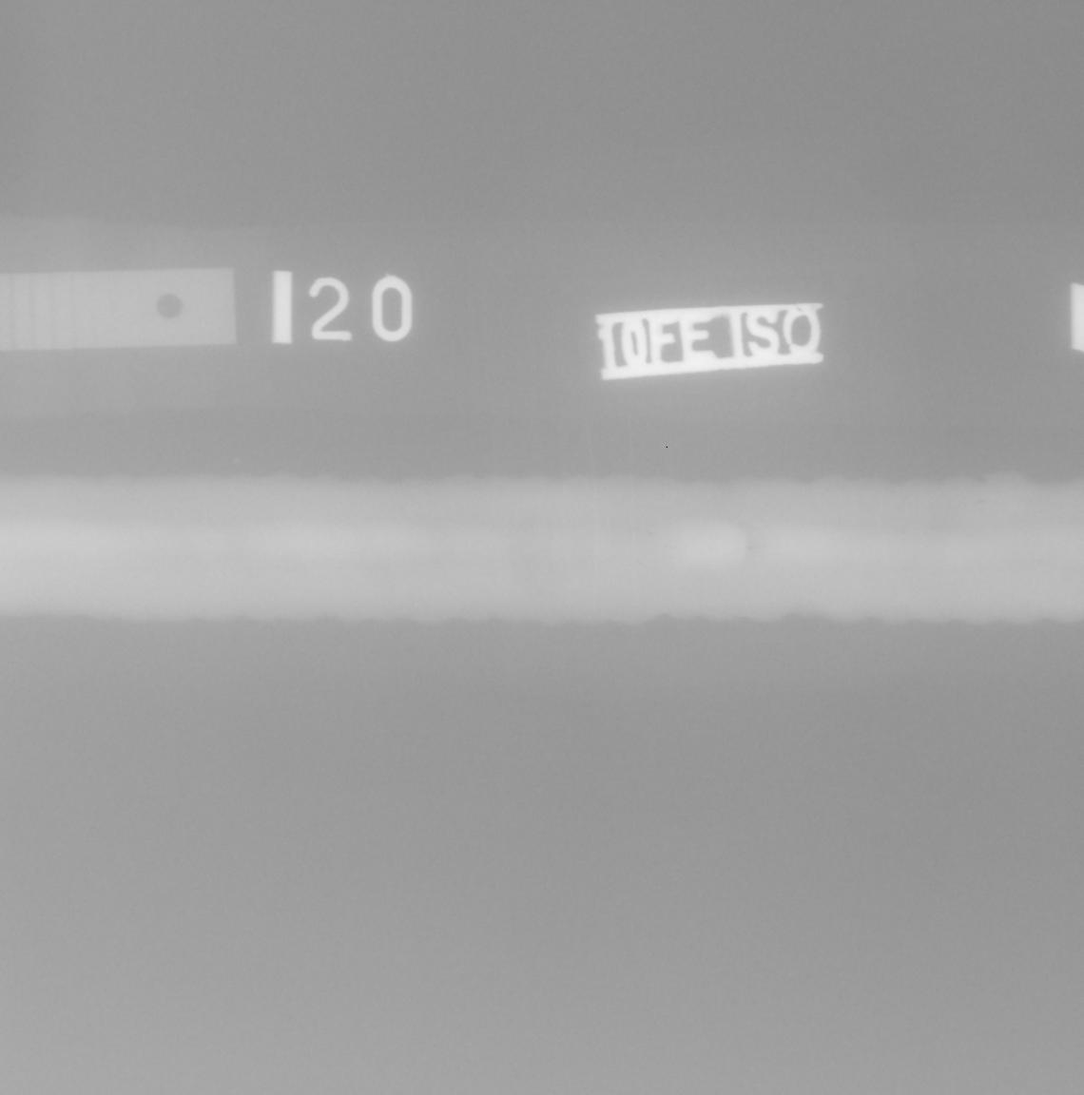Inclusion: (975, 500, 986, 506), (676, 500, 682, 504)
Incomplete Root Penetration: (749, 547, 757, 549)
Pore/Porosity: (902, 531, 906, 534), (648, 532, 651, 535)
